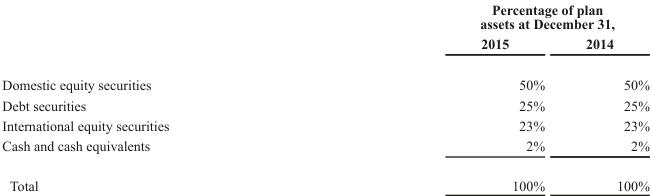table: (1, 1, 648, 193)
table column: (1, 1, 323, 193), (323, 1, 564, 193), (564, 1, 648, 193)
table column header: (1, 1, 648, 63)
table row: (1, 1, 648, 33), (1, 63, 648, 94), (1, 33, 648, 63), (1, 135, 648, 165), (1, 165, 648, 193), (1, 94, 648, 115), (1, 115, 648, 135)
table spanning cell: (323, 1, 648, 33)
